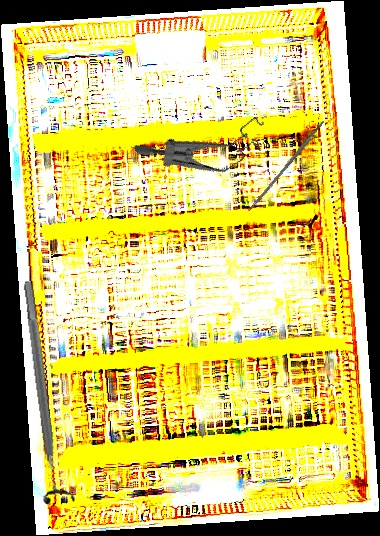Fixation Ring: (11, 278, 77, 508)
Scalpel Handle: (246, 120, 327, 213)
Speculum: (132, 78, 277, 210)
